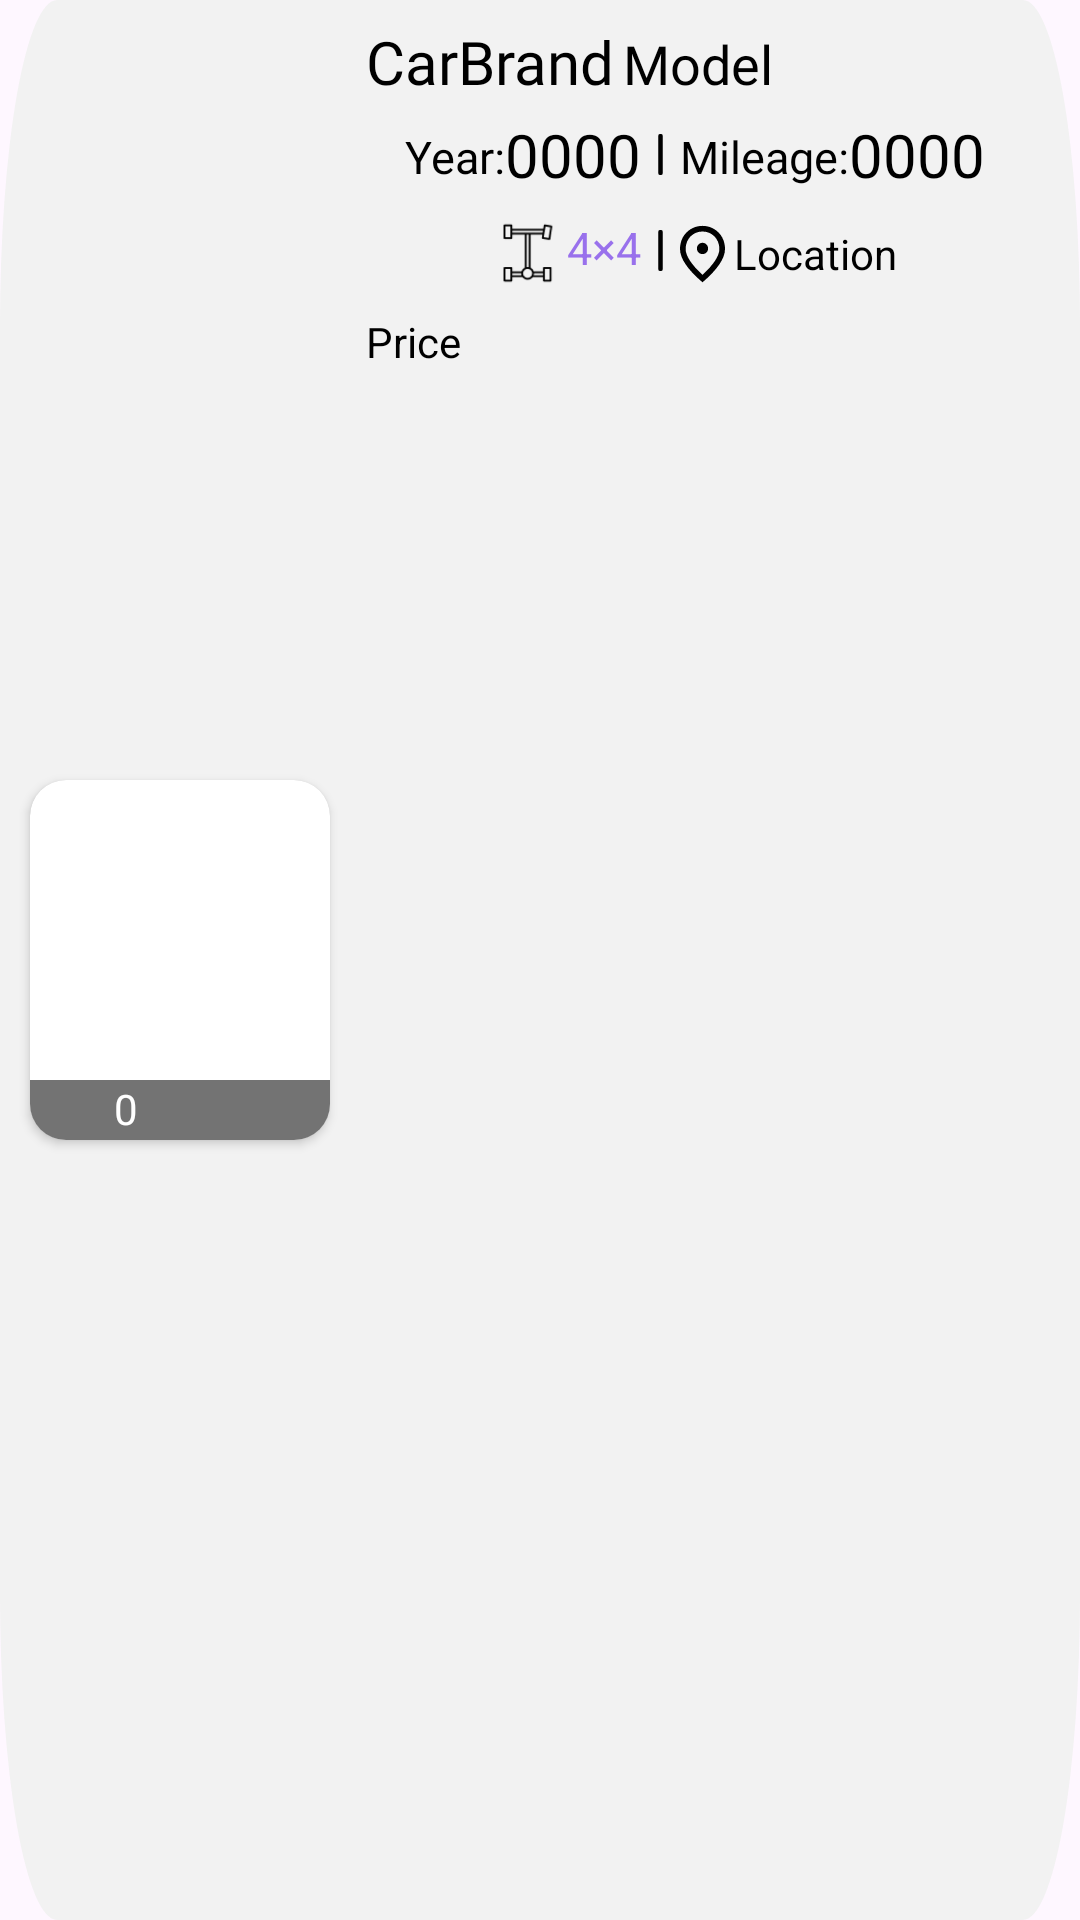

Locate icon controls on the screen. Image size 1080px x 1920px, boxes as [x1,y1,x2,y2].
axis: [503,224,553,282]
gps point: [680,225,725,283]
